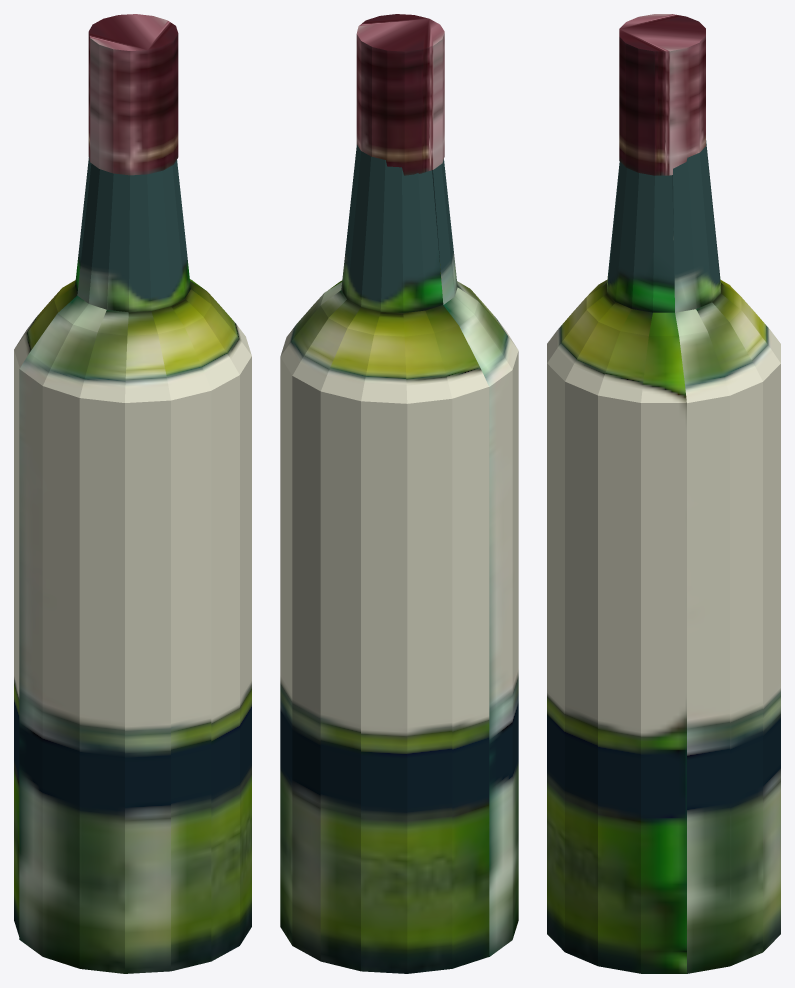
File: bottle.fbx
3 views of the same model, side by side, from view 1: azimuth 30°, elevation 25°; view 2: azimuth 150°, elevation 25°; view 3: azimuth 270°, elevation 25° (orthographic).
Visible parts, largest first — view 1: Circle; view 2: Circle; view 3: Circle.
Part boxes in pixels (x1,y1,x2,y2): Circle: (14,14,251,973); Circle: (280,14,518,973); Circle: (547,14,780,973).
Bounding box in the file's own units: 16.98 × 71.14 × 16.91.
